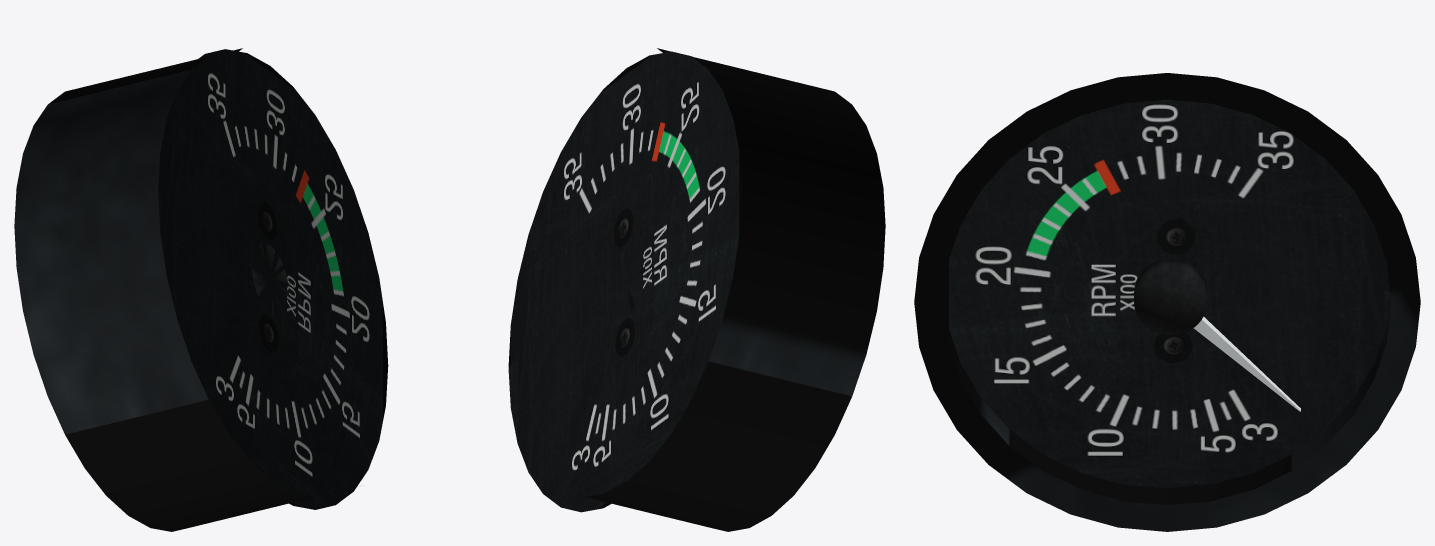
Rendered from rpm.gltf.
3 renders of one model, left to right at view 1: azimuth 30°, elevation 25°; view 2: azimuth 150°, elevation 25°; view 3: azimuth 270°, elevation 25°, orthographic.
Visible parts, largest first — view 1: Face, Case, PointerCentre; view 2: Face, Case; view 3: Face, Case, PointerCentre, PointerTip.
Boxes of the visible parts, x1,y1,x2,y2 form: Face: (158,49,388,509); Case: (14,48,320,531); PointerCentre: (252,243,288,314); Face: (508,51,741,512); Case: (579,48,885,531); Face: (944,99,1390,488); Case: (914,73,1420,531); PointerCentre: (1134,259,1207,335); PointerTip: (1193,316,1300,411).
Bounding box in the file's own units: 0.0321 × 0.0804 × 0.0804.
4 materials, 4 textured.
